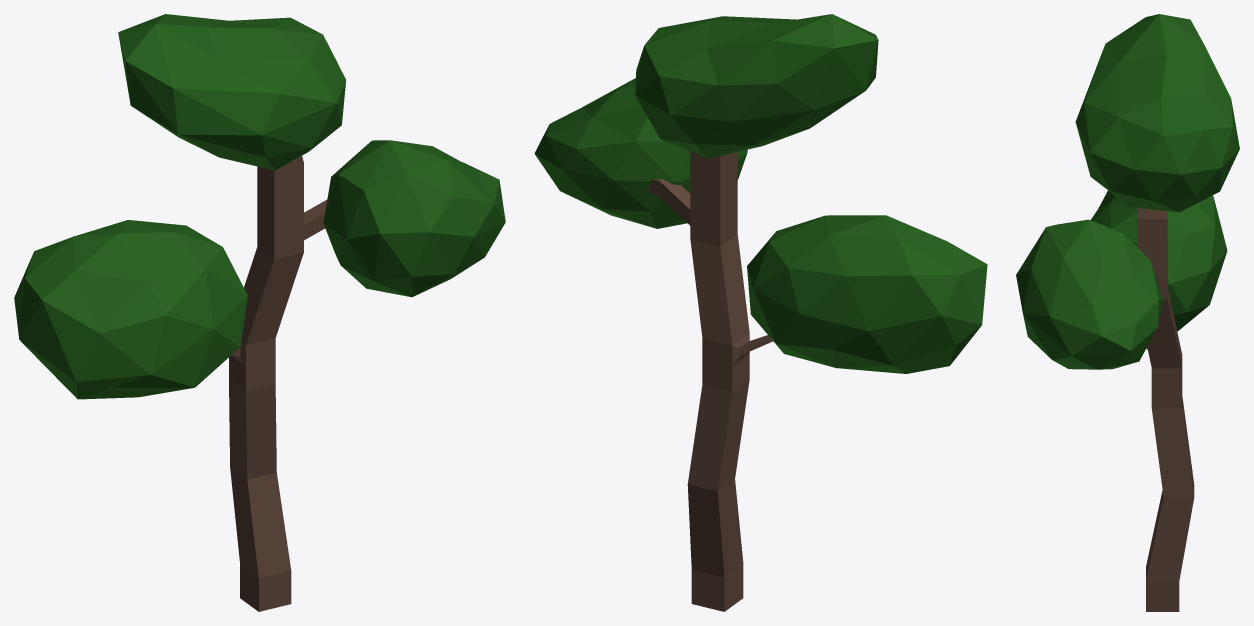
File: Tree1.fbx
The picture shows the model from 3 angles, left to right: view 1: azimuth 30°, elevation 25°; view 2: azimuth 150°, elevation 25°; view 3: azimuth 270°, elevation 25°; orthographic projection. The views are drawn at different scales.
Visible parts, largest first — view 1: Tree; view 2: Tree; view 3: Tree.
Part boxes in pixels (x1,y1,x2,y2): Tree: (14, 14, 505, 611); Tree: (534, 14, 987, 611); Tree: (1016, 14, 1239, 611).
Size of the model in its own units: 1572 by 2006 by 751.
